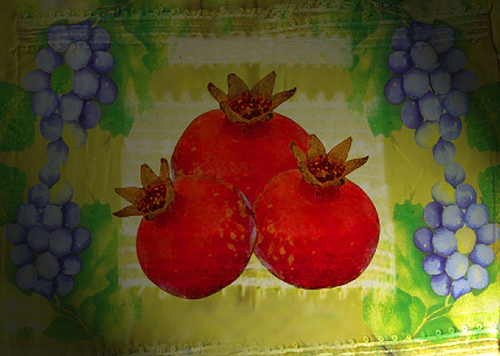pomogranate: (110, 154, 257, 302), (170, 69, 312, 212), (254, 132, 382, 290)
